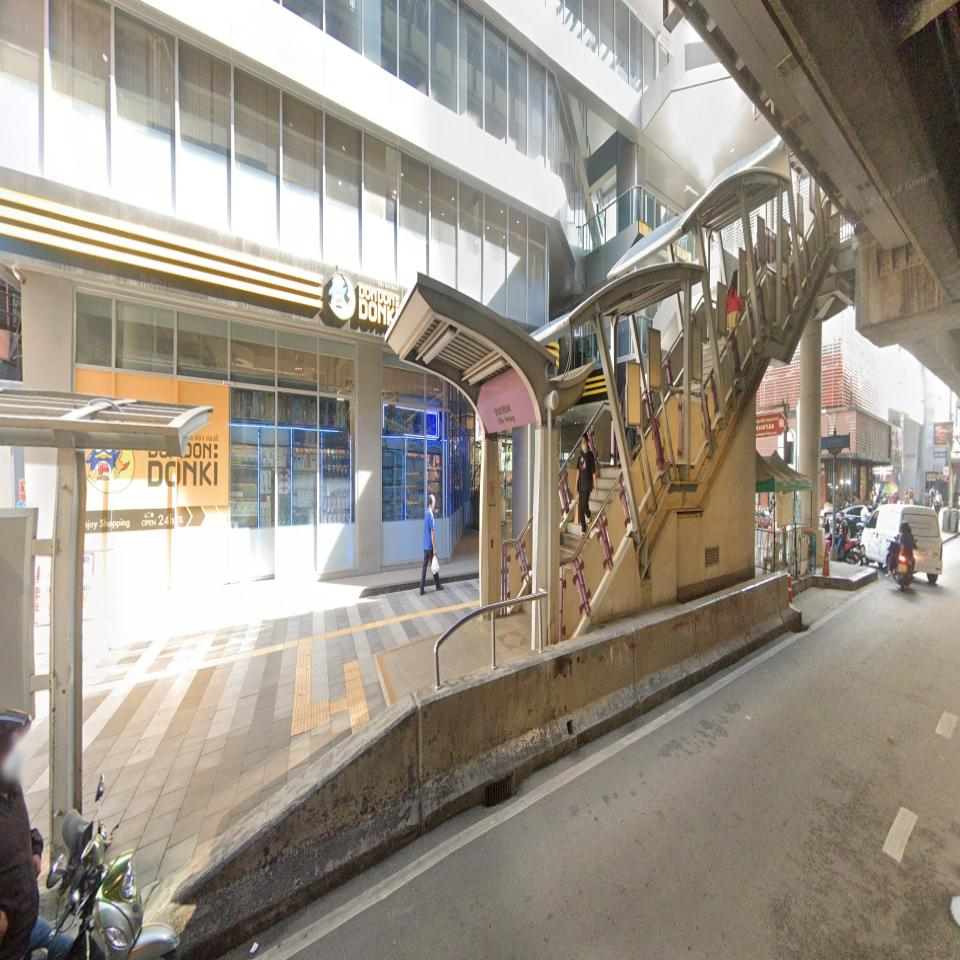signage: (475, 382, 537, 445), (477, 382, 537, 432)
